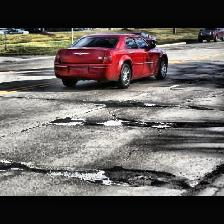pothole: (98, 164, 188, 190), (141, 120, 223, 128), (102, 99, 155, 107), (0, 162, 30, 170), (82, 120, 102, 126)
